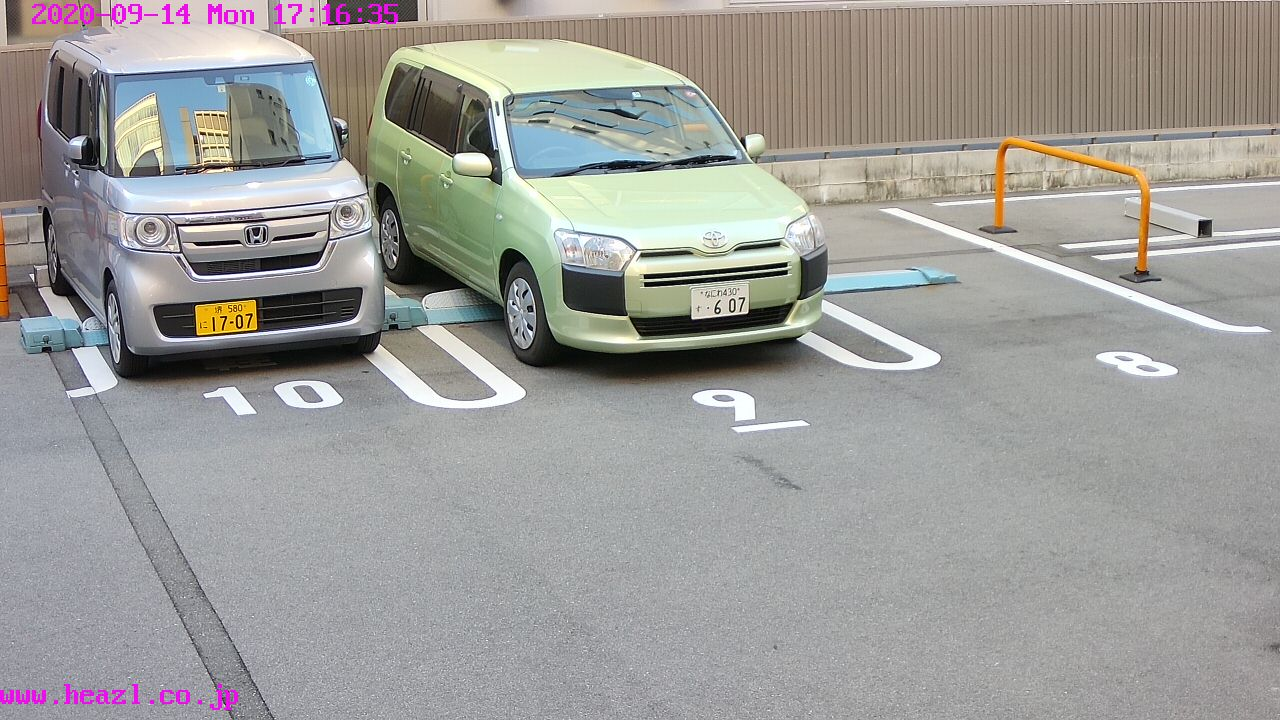number_plate: (692, 284, 750, 317), (194, 303, 259, 332)
